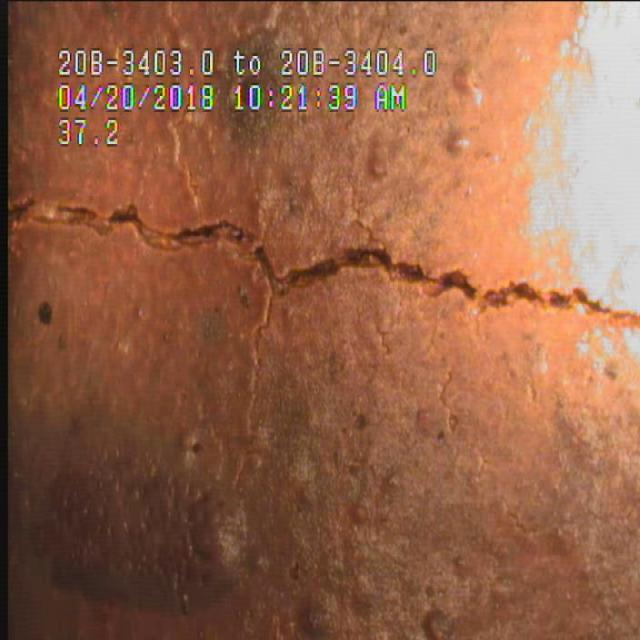Crack: (29, 169, 586, 341)
